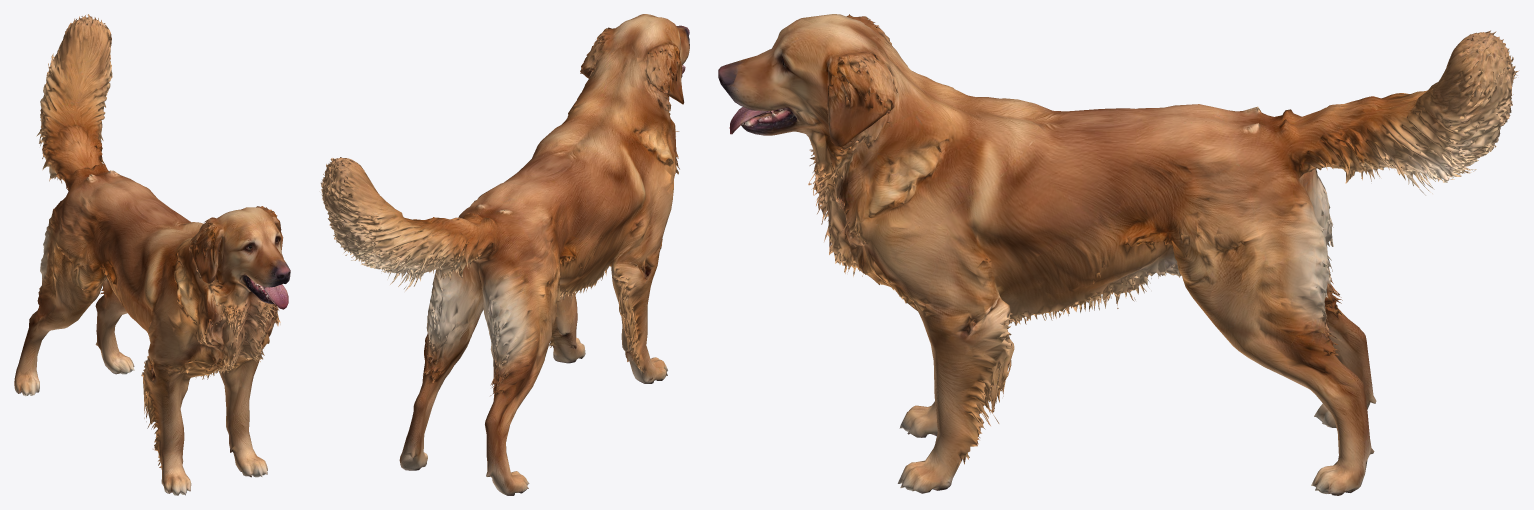
The model's file is yard-golden-retriever.glb.
3 views of the same model, side by side, from view 1: azimuth 30°, elevation 25°; view 2: azimuth 150°, elevation 25°; view 3: azimuth 270°, elevation 25° (orthographic). The views are drawn at different scales.
Bounding box in the file's own units: 0.5723 × 1.23 × 1.89.
Materials: 1 (1 with a texture image).
